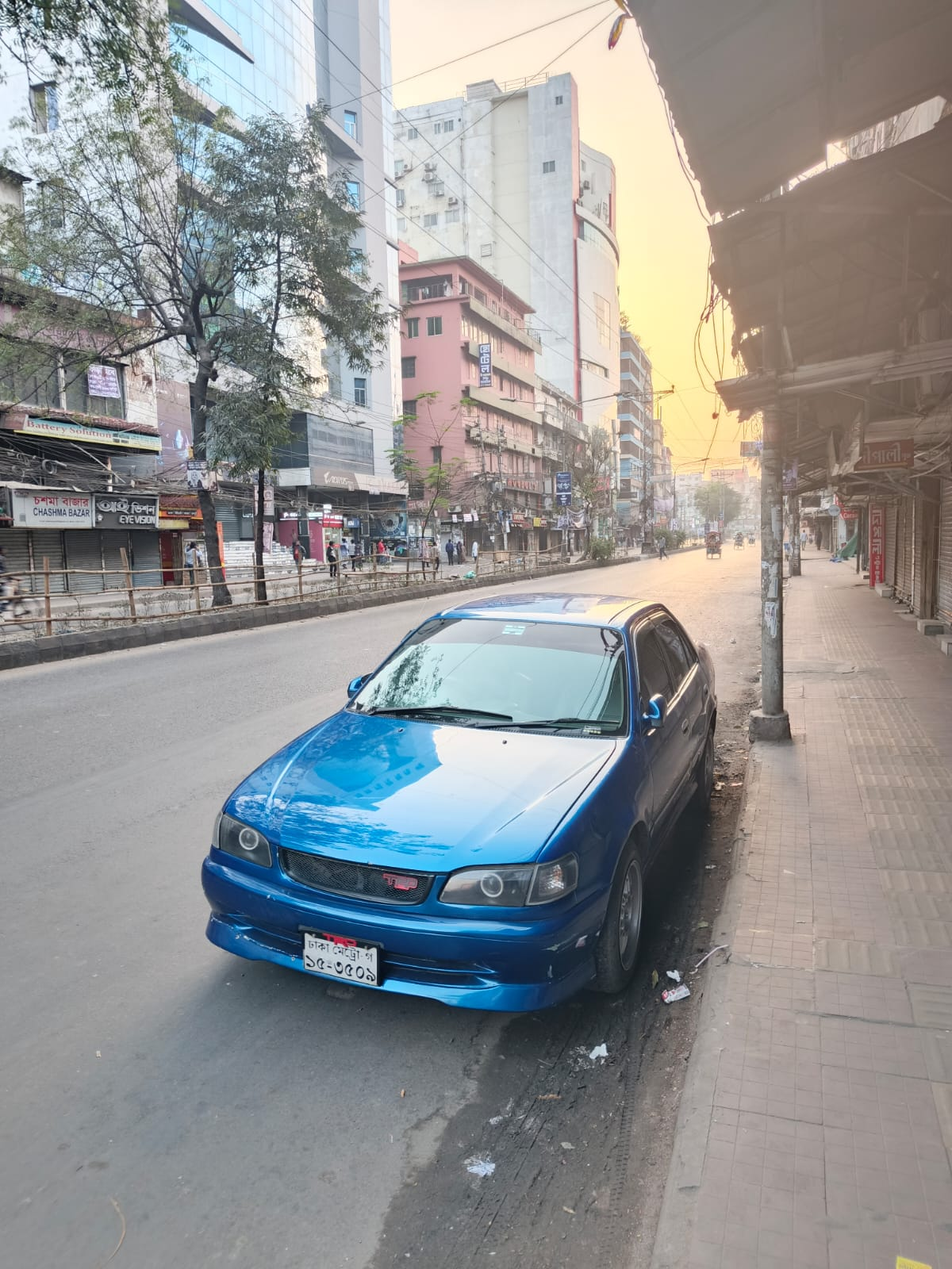private car: (159, 588, 730, 1028)
